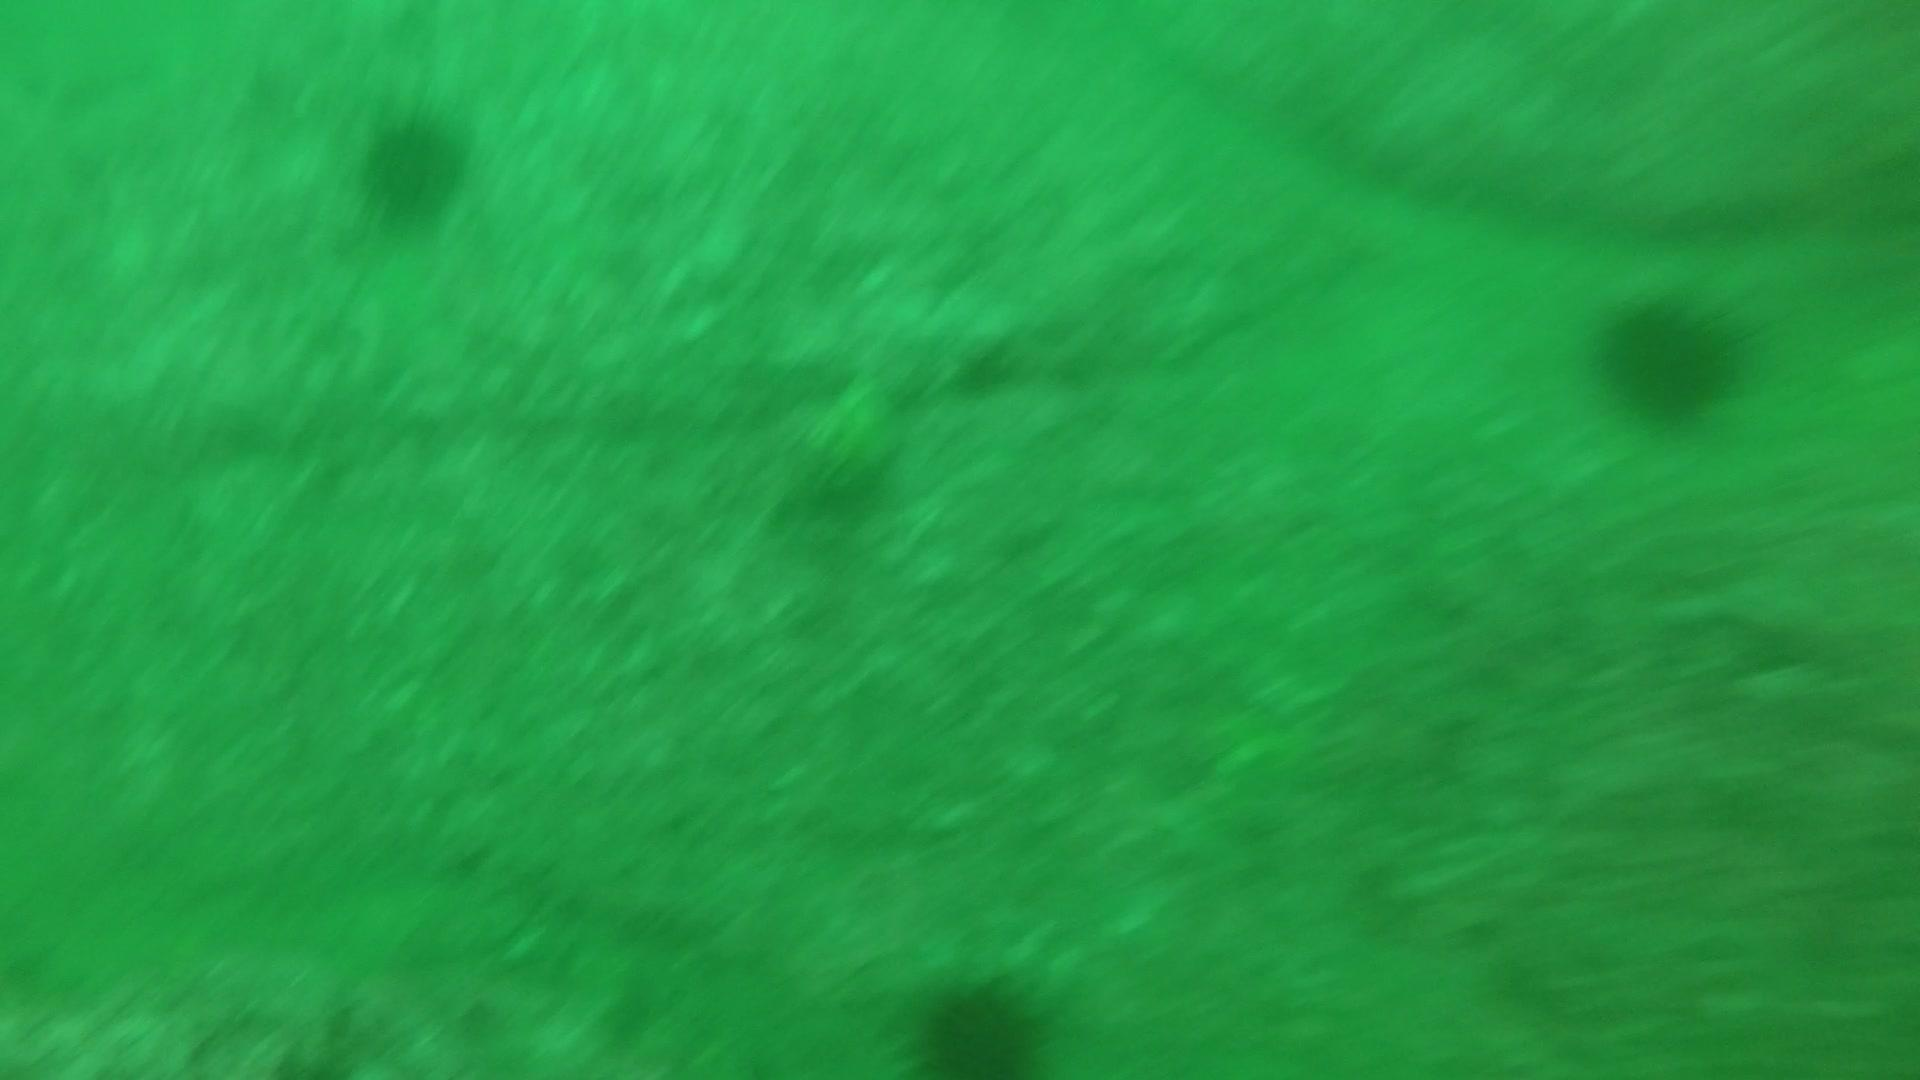echinus: (1588, 284, 1754, 429), (905, 969, 1055, 1077), (352, 102, 475, 231)
